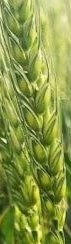Healthy Wheat: (6, 3, 71, 200)
